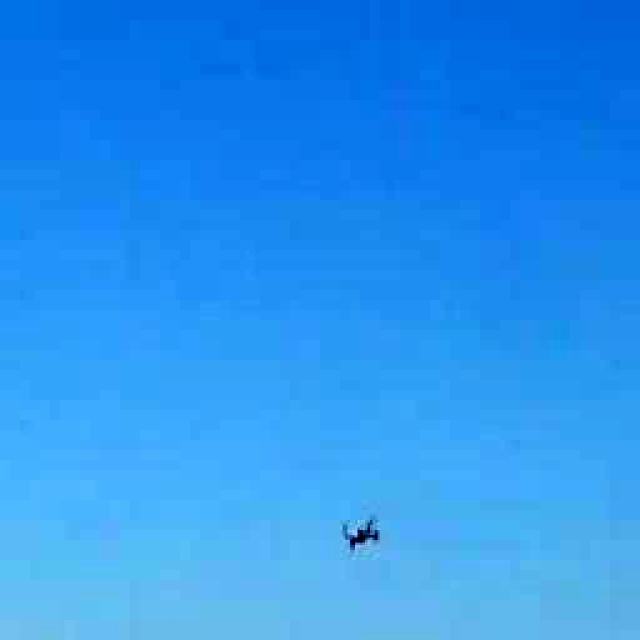bird: (319, 494, 399, 571)
